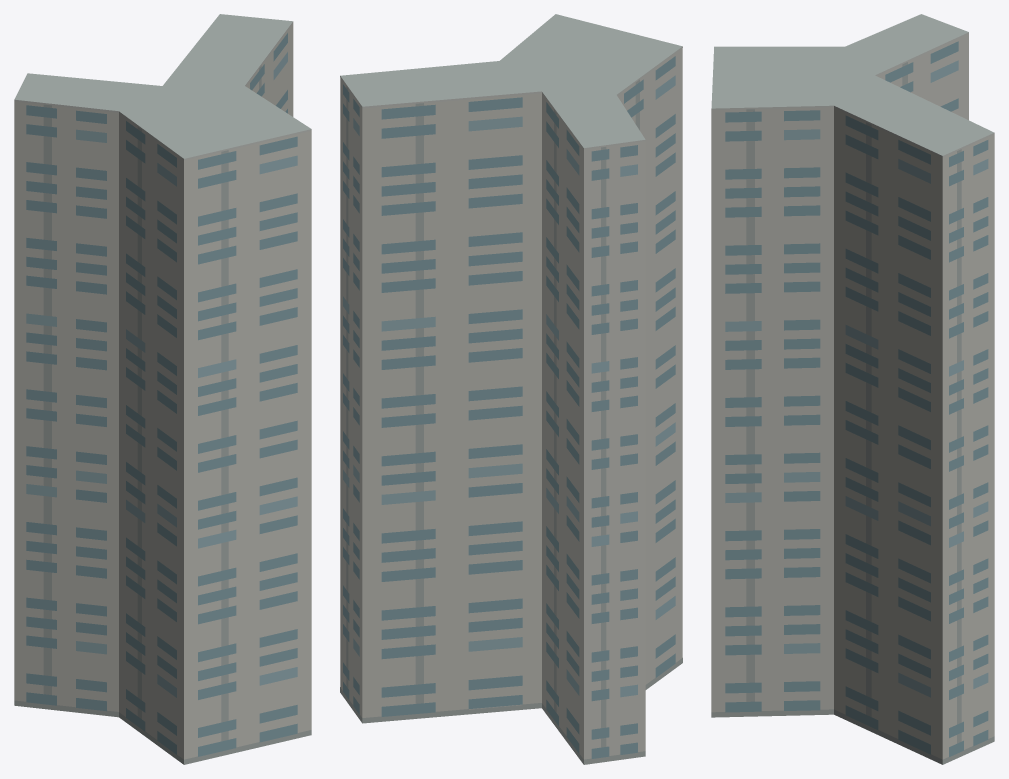
The model's file is residential-4e19598a-34a7-40a6-b669-b820aa9bf154.glb.
3 renders of one model, left to right at view 1: azimuth 30°, elevation 25°; view 2: azimuth 150°, elevation 25°; view 3: azimuth 270°, elevation 25°, orthographic.
Parts seen in each view (by area): view 1: residential-4e19598a-34a7-40a6-b669-b820aa9bf154.tmp; view 2: residential-4e19598a-34a7-40a6-b669-b820aa9bf154.tmp; view 3: residential-4e19598a-34a7-40a6-b669-b820aa9bf154.tmp.
Part boxes in pixels (bbox=[...]): residential-4e19598a-34a7-40a6-b669-b820aa9bf154.tmp: bbox=[14, 14, 311, 764]; residential-4e19598a-34a7-40a6-b669-b820aa9bf154.tmp: bbox=[340, 14, 682, 764]; residential-4e19598a-34a7-40a6-b669-b820aa9bf154.tmp: bbox=[711, 14, 994, 764].
Size of the model in its own units: 46.52 by 93 by 39.18.
